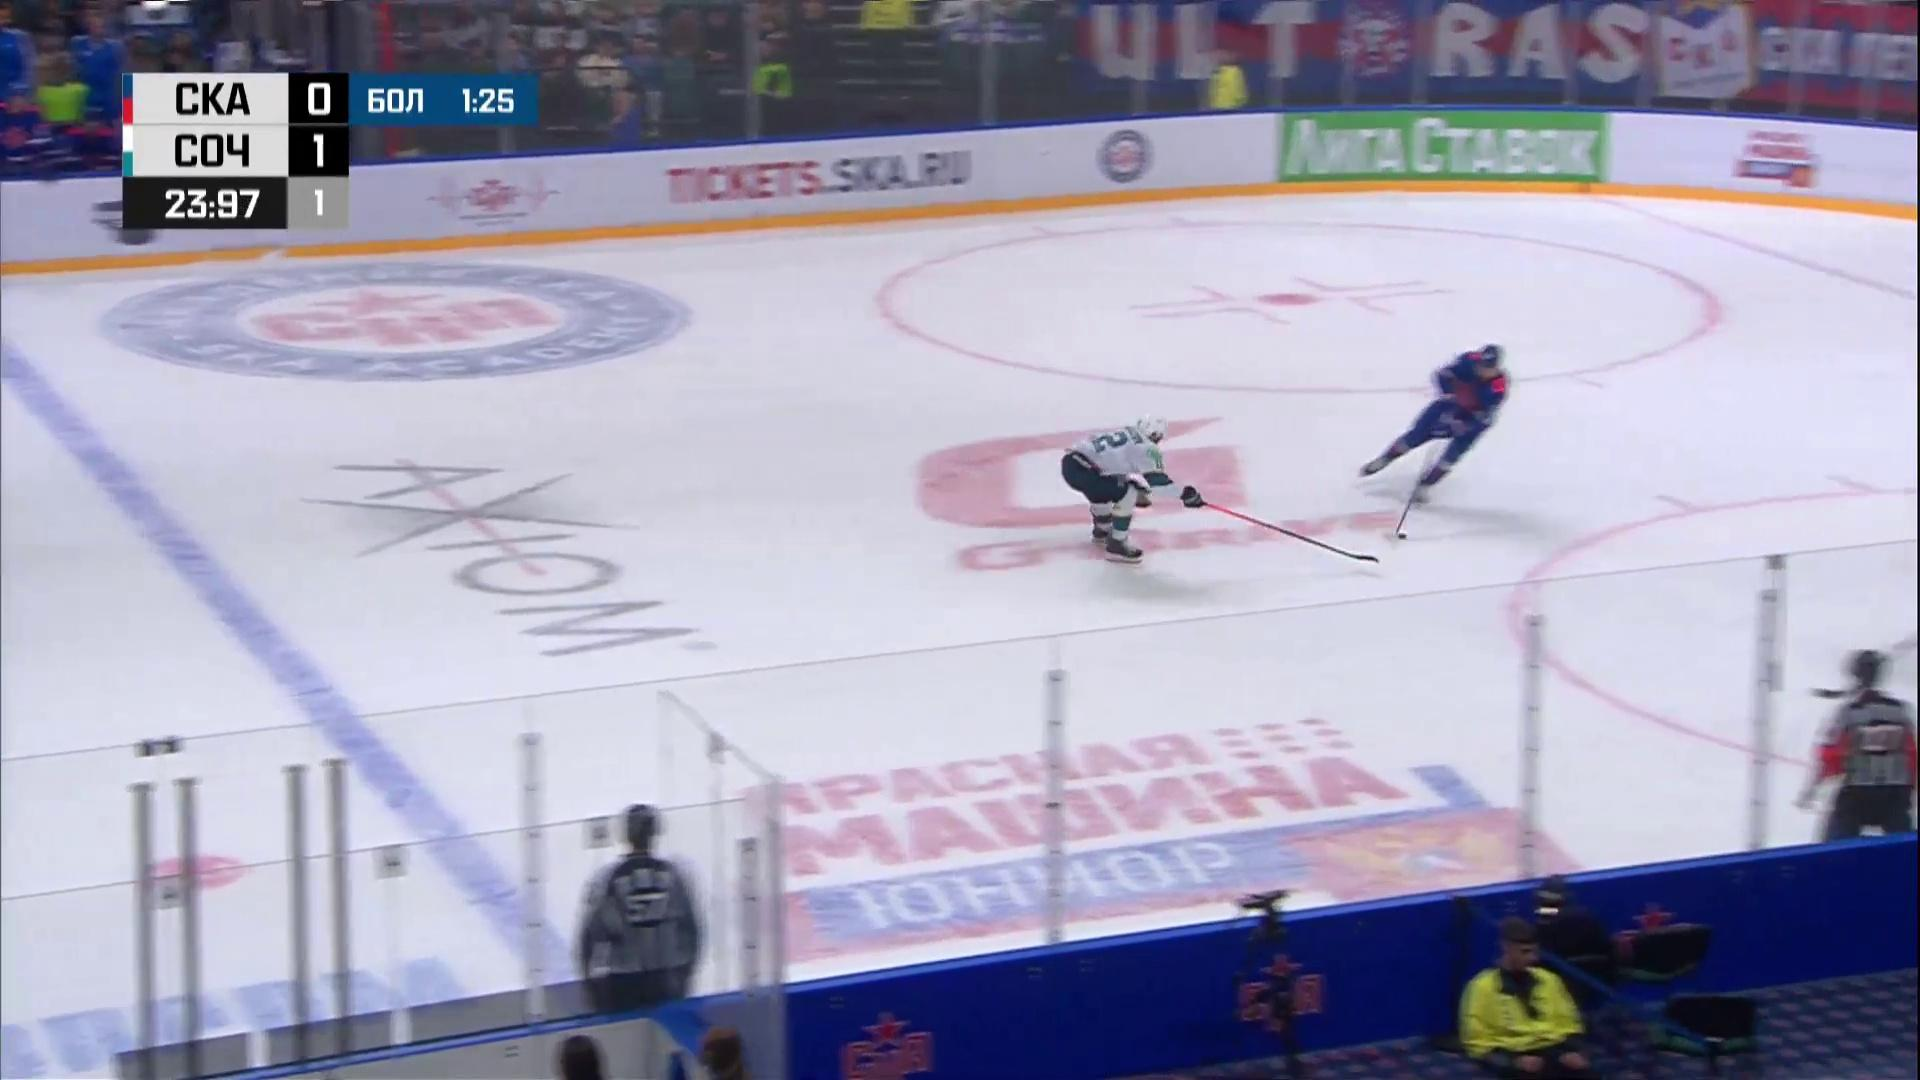ball: (1398, 533, 1407, 539)
